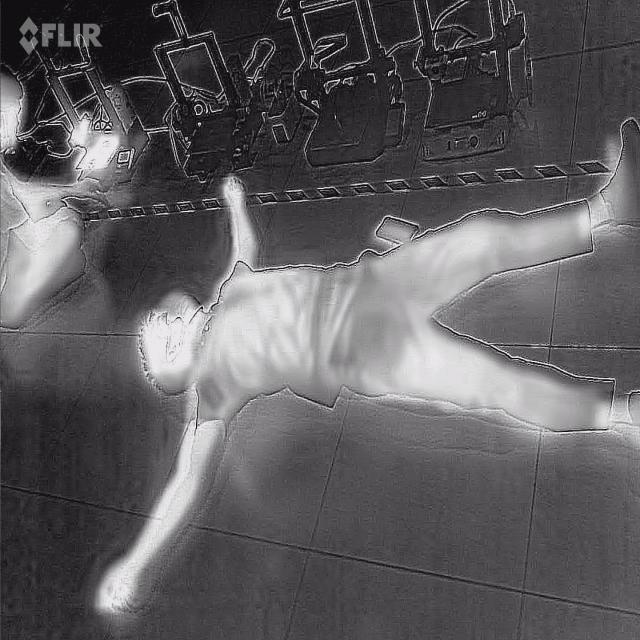Victim: (94, 105, 638, 612), (0, 52, 90, 338)
